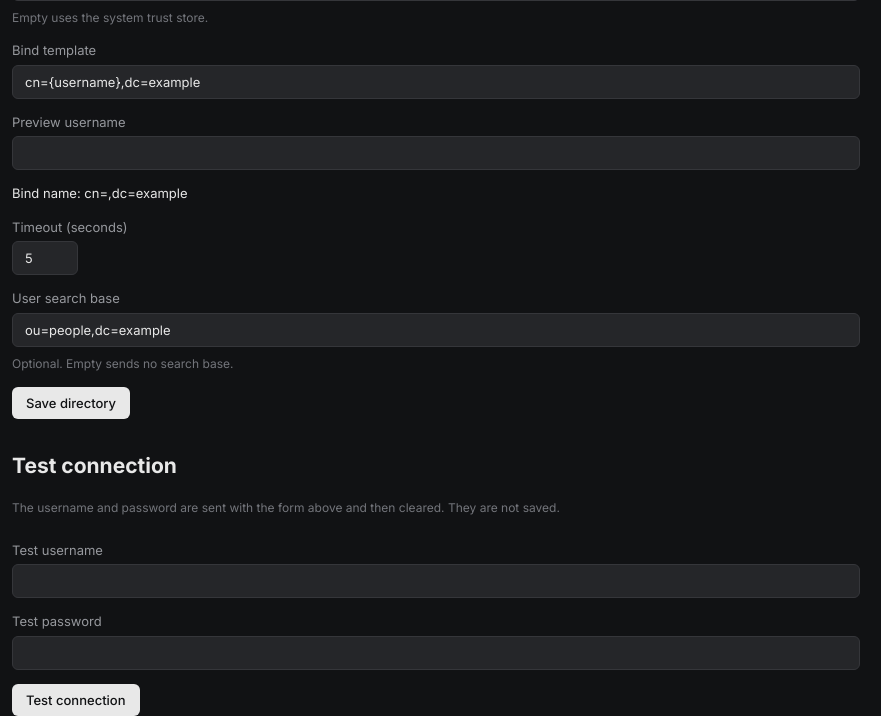
Scenario: DirectoryPage › shows a successful test and an unparseable expiry as sent
(page scrolled)
In the field labelled "Test username": (436, 581) top-left (12, 564), bottom-right (860, 598), type "ada"
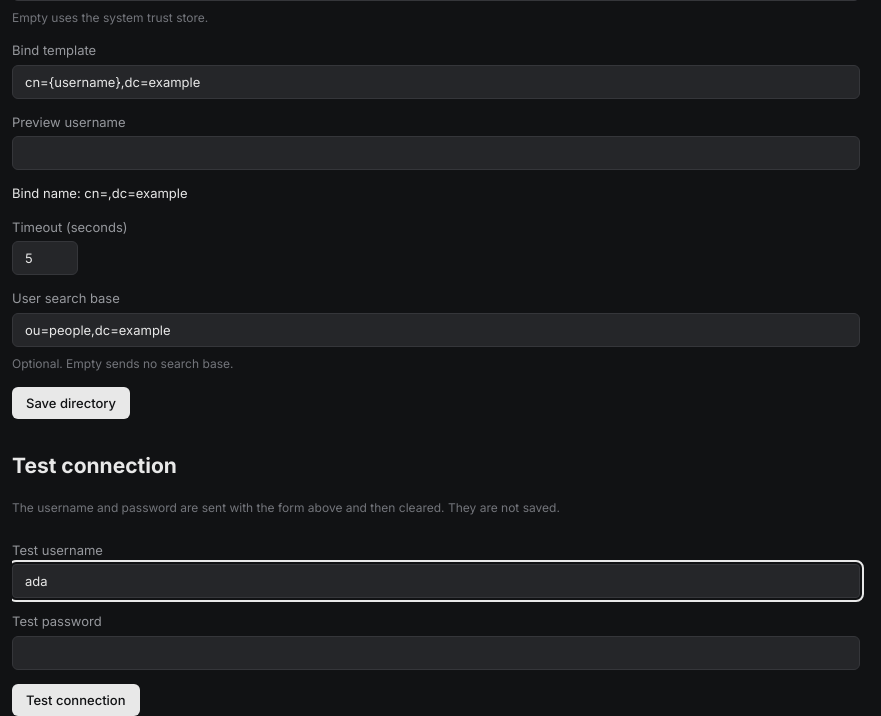
In the password field labelled "Test password": (436, 653) top-left (12, 636), bottom-right (860, 670), type "Test-Secret-99"
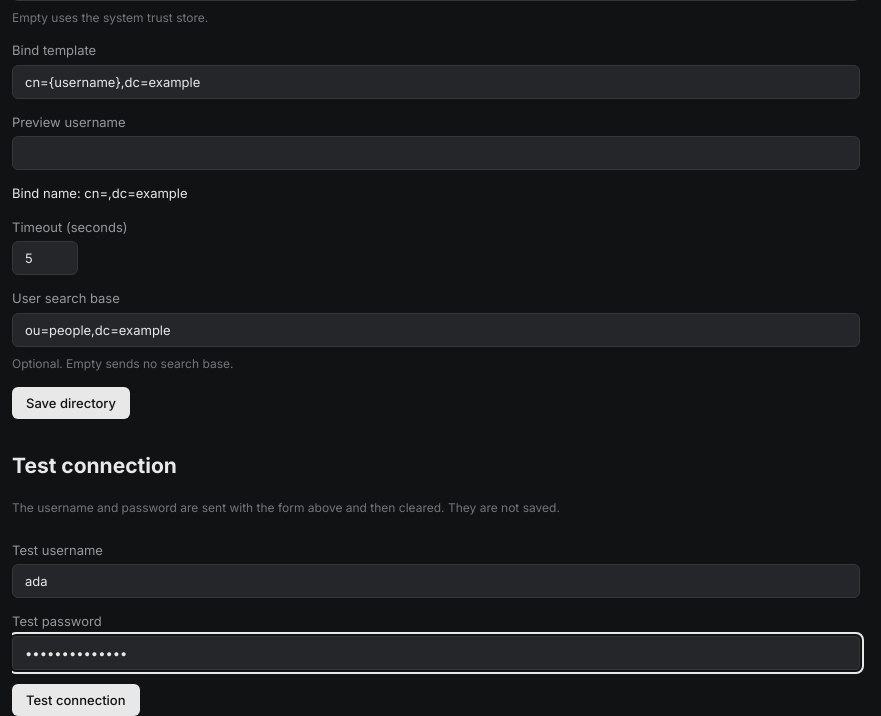
Click the button "Test connection": (76, 700) top-left (12, 684), bottom-right (140, 715)
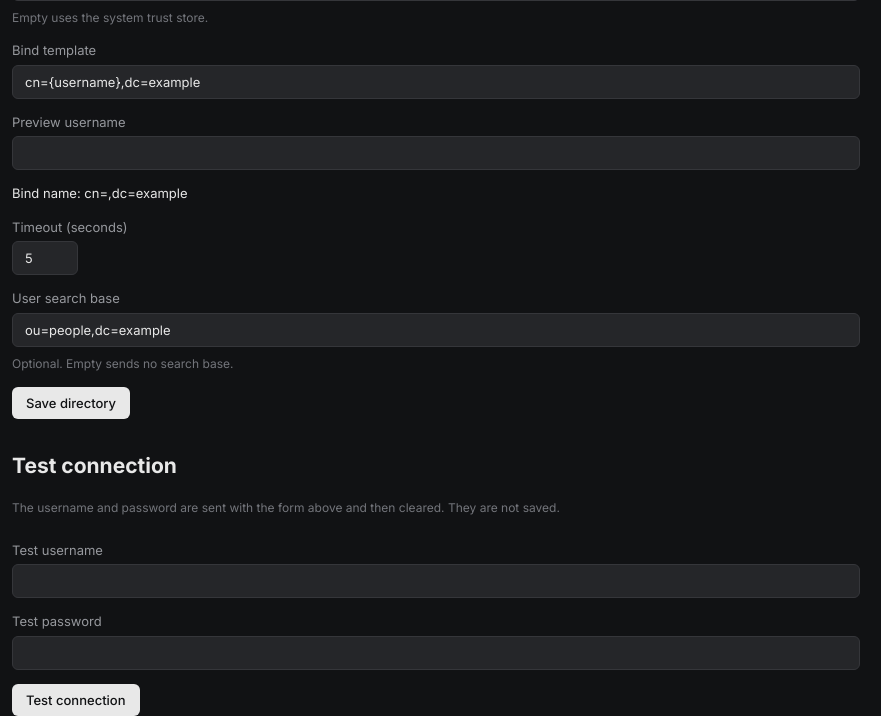
In the field labelled "Test username": (436, 581) top-left (12, 564), bottom-right (860, 598), type "ada"
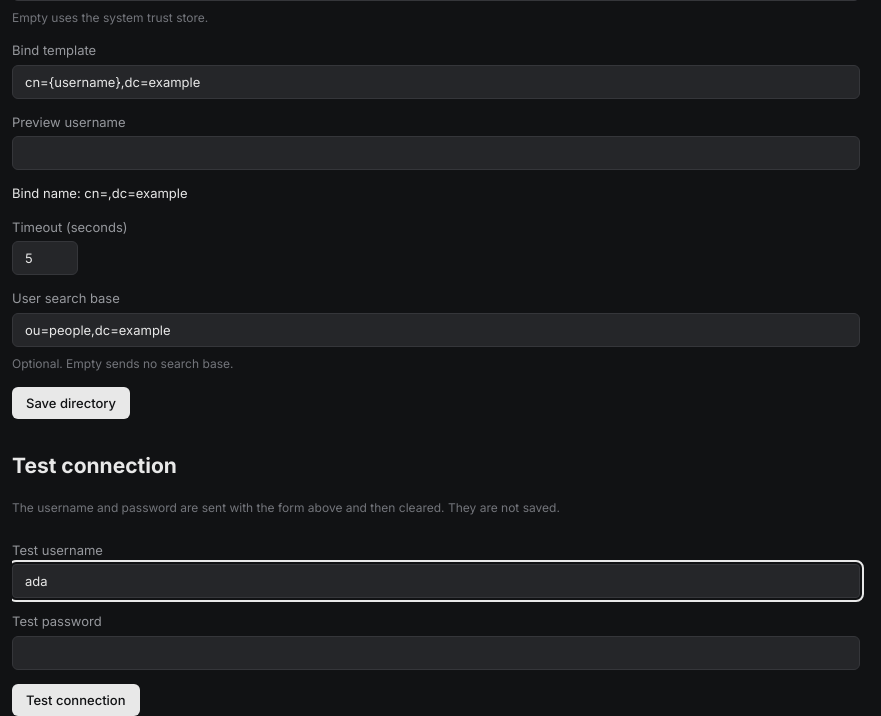
In the password field labelled "Test password": (436, 653) top-left (12, 636), bottom-right (860, 670), type "Test-Secret-99"
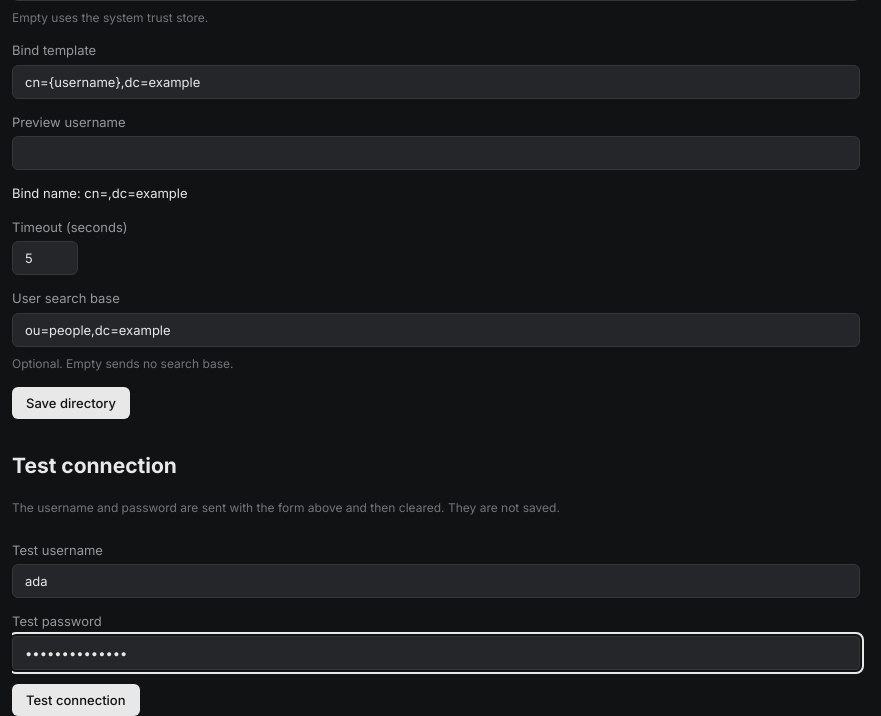
Click the button "Test connection": (76, 700) top-left (12, 684), bottom-right (140, 715)
(page scrolled)
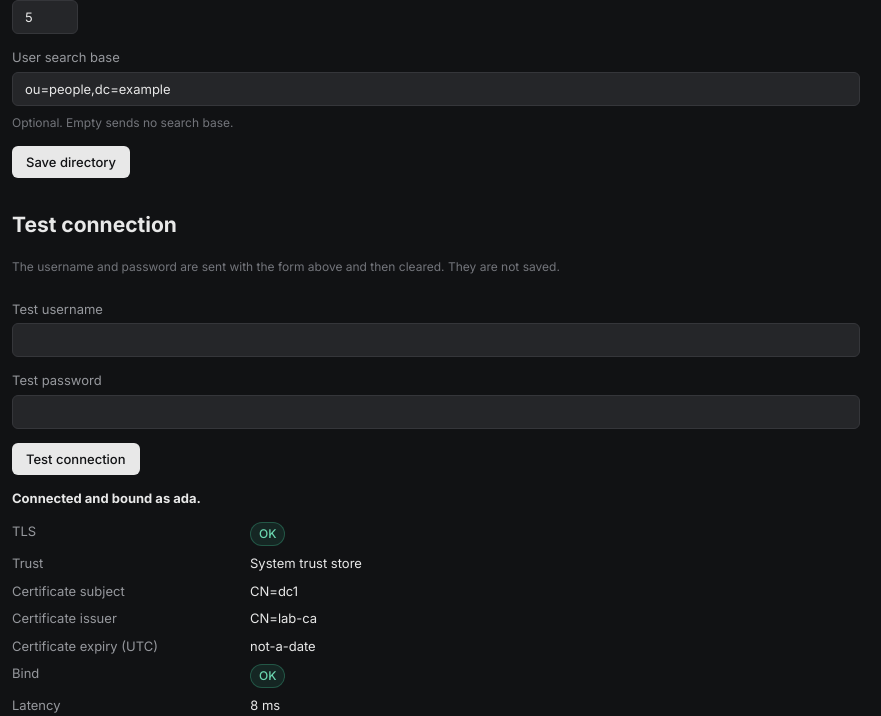
Now the text "not-a-date" is shown, box top-left (250, 638), bottom-right (316, 654)
